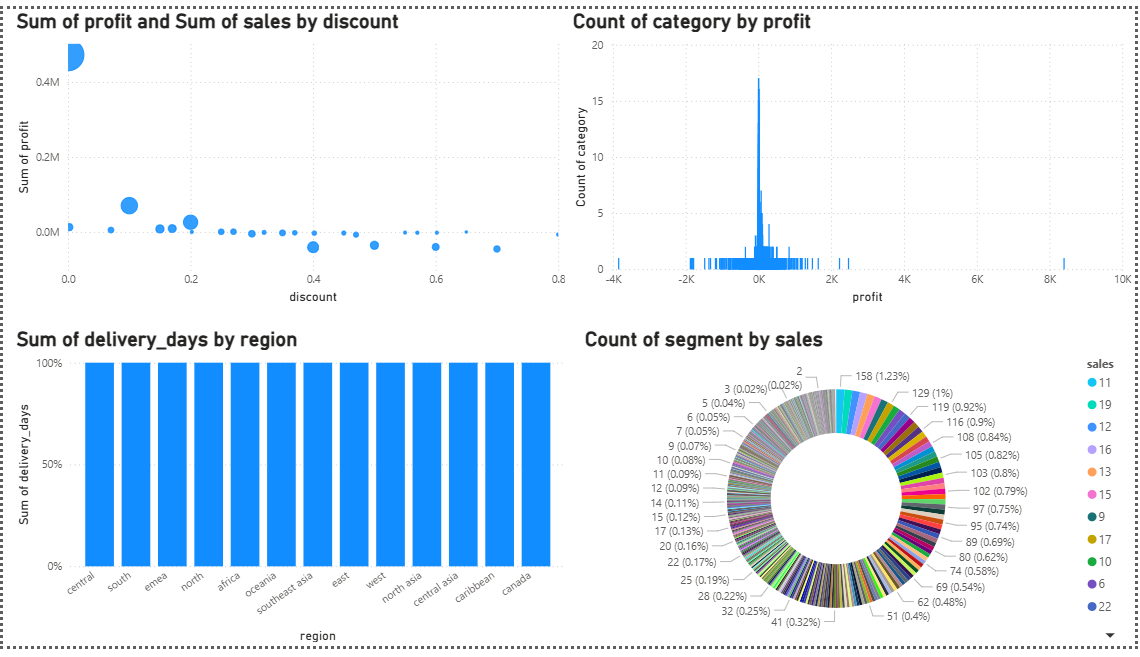

What the dashboard file says about the page in this screenshot:
{"tool":"powerbi","page":{"name":"Discount Impact on Profitability","canvas":[1280,720],"ordinal":1},"visuals":[{"type":"scatterChart","fields":{"Y":["Sum(cleaned_superstore.profit)"],"X":["cleaned_superstore.discount"],"Size":["Sum(cleaned_superstore.sales)"]},"box":[9.7,0,629.9,336.8],"z":0},{"type":"hundredPercentStackedColumnChart","fields":{"Category":["cleaned_superstore.region"],"Y":["Sum(cleaned_superstore.delivery_days)"]},"box":[9.7,359.5,629.9,361.1],"z":1},{"type":"donutChart","fields":{"Category":["cleaned_superstore.sales"],"Y":["CountNonNull(cleaned_superstore.segment)"]},"box":[652.5,359.5,628.3,361.1],"z":2},{"type":"columnChart","fields":{"Category":["cleaned_superstore.profit"],"Y":["CountNonNull(cleaned_superstore.category)"]},"box":[639.6,0,641.2,336.8],"z":3}]}

Visuals, with their boxes in screenshot pixels (x1, y1, x2, y2), scaled from the page's 1280x720 canvas onto the 1140x657 screenshot:
scatterChart - Sum(cleaned_superstore.profit) x cleaned_superstore.discount: locate(9, 0, 570, 307)
hundredPercentStackedColumnChart - cleaned_superstore.region x Sum(cleaned_superstore.delivery_days): locate(9, 328, 570, 656)
donutChart - cleaned_superstore.sales x CountNonNull(cleaned_superstore.segment): locate(581, 328, 1139, 656)
columnChart - cleaned_superstore.profit x CountNonNull(cleaned_superstore.category): locate(570, 0, 1139, 307)
